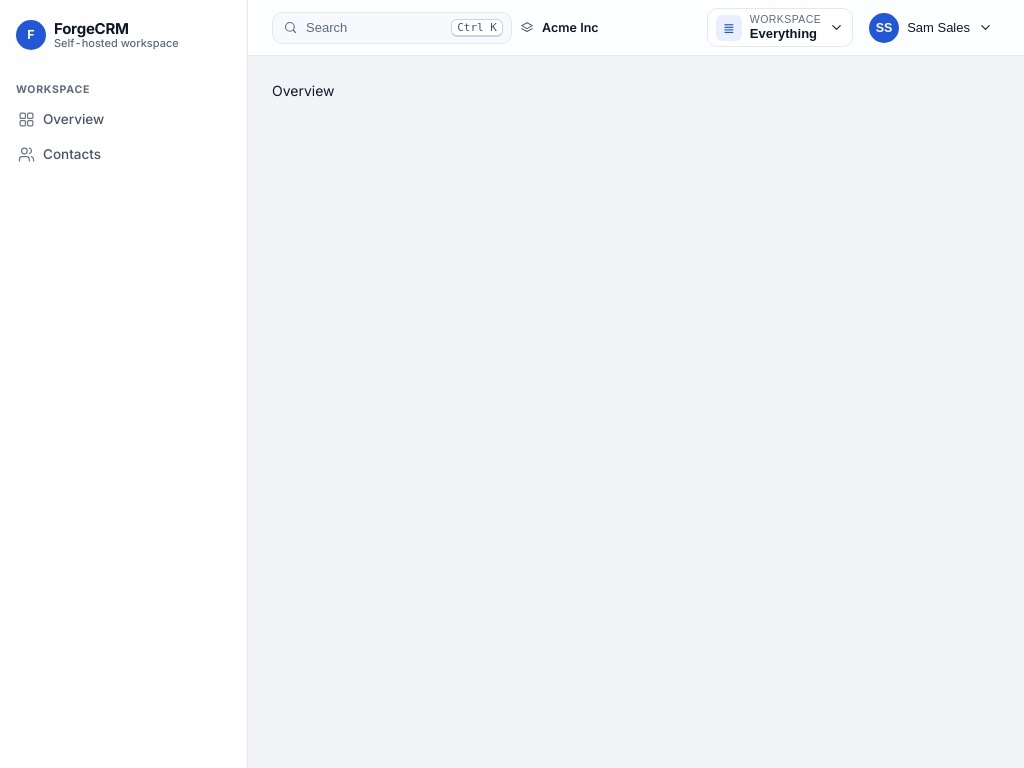
Test case: AppShell accessibility › closes the account popover on Escape
The image size is (1024, 768).
Click the button with aria-label "my account". click: (933, 28)
box: [865,8,1000,46]
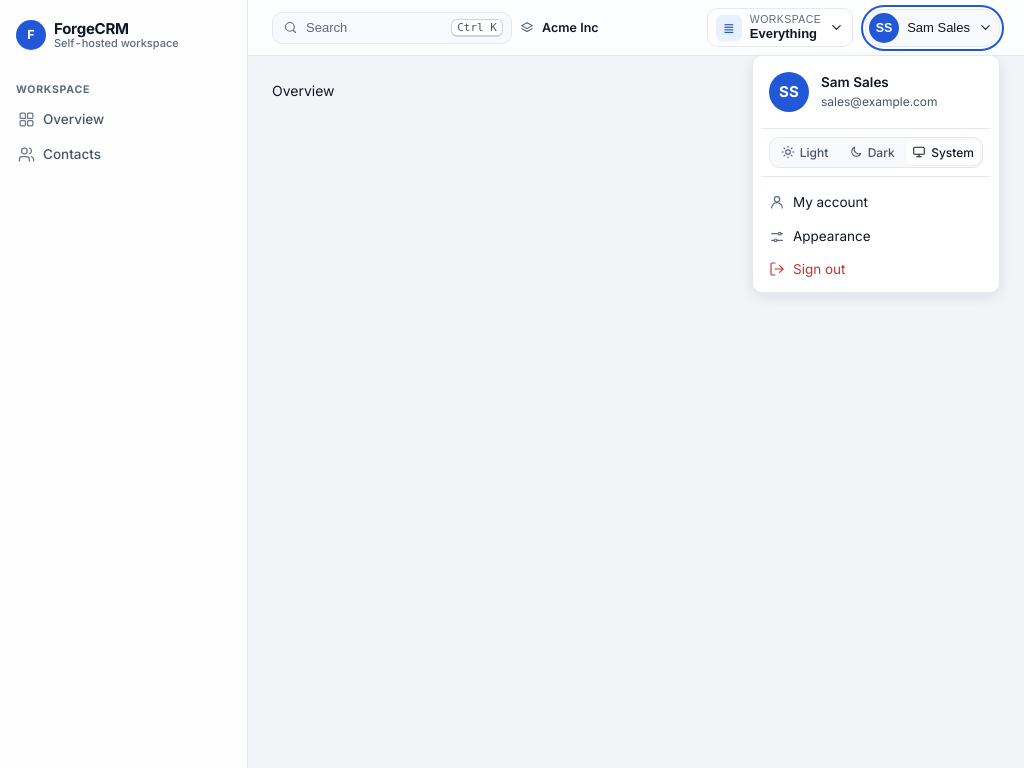
Expected: the button "Sign out" is shown, [761,254,991,284]
Press Escape
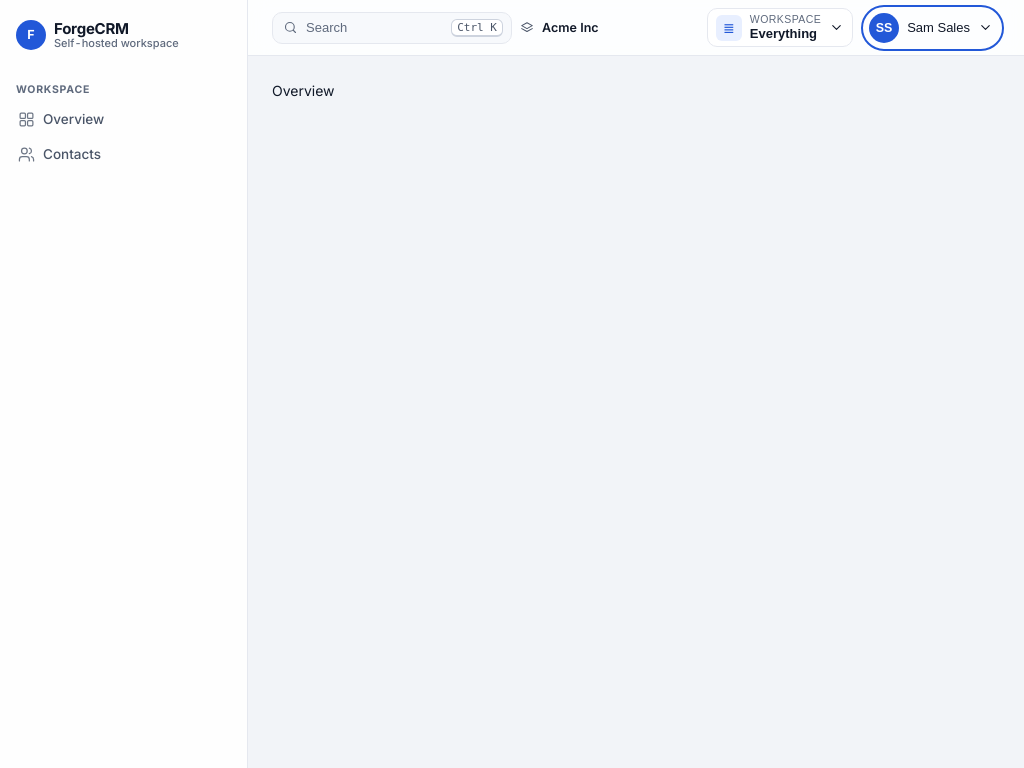
Expected: the button "Sign out" is gone
